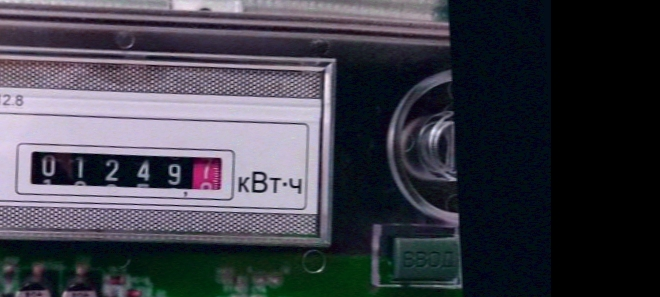0: (38, 150, 56, 177)
1: (70, 151, 85, 178)
2: (100, 156, 118, 182)
4: (133, 155, 150, 181)
7: (197, 153, 213, 180)
9: (162, 159, 181, 185)
screen: (10, 129, 238, 213)
